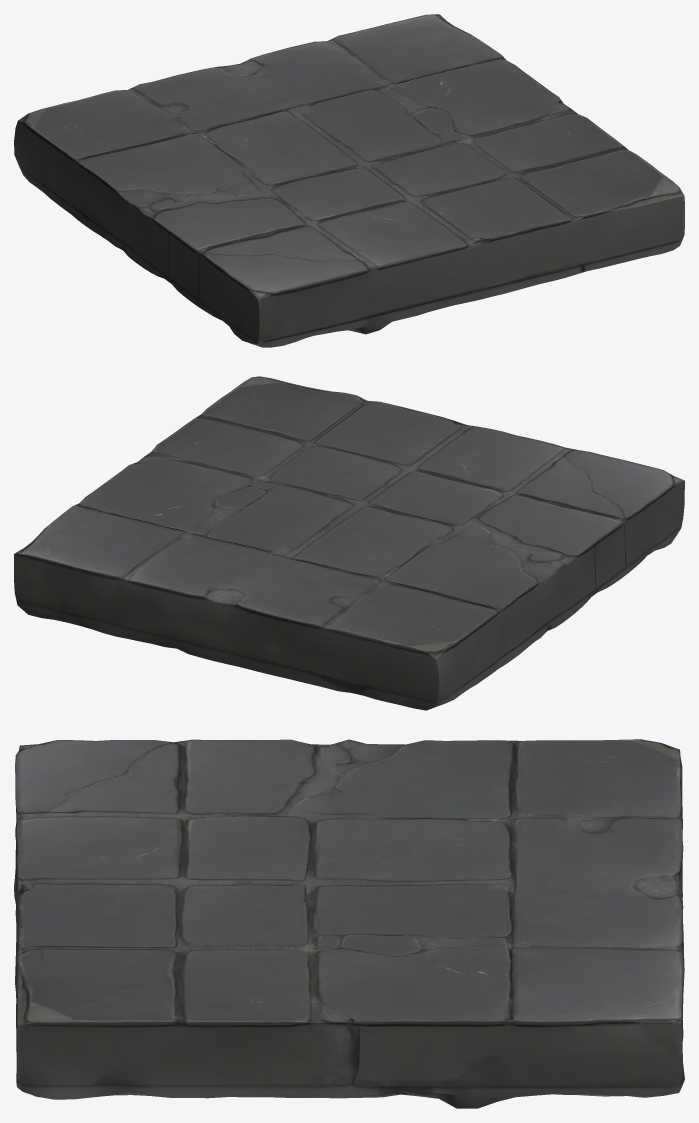
The model's file is t_gray_rock_tiles.glb.
3 renders of one model, top to bottom at view 1: azimuth 30°, elevation 25°; view 2: azimuth 150°, elevation 25°; view 3: azimuth 270°, elevation 25°, orthographic. The views are drawn at different scales.
Parts seen in each view (by area): view 1: output; view 2: output; view 3: output.
Boxes of the visible parts, bbox=[...] form: output: bbox=[14, 14, 684, 347]; output: bbox=[14, 376, 684, 710]; output: bbox=[14, 739, 684, 1108].
Bounding box in the file's own units: 2.01 × 0.3007 × 2.01.
Materials: 1 (1 with a texture image).
